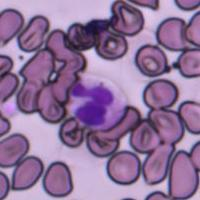N: (68, 78, 128, 131)
